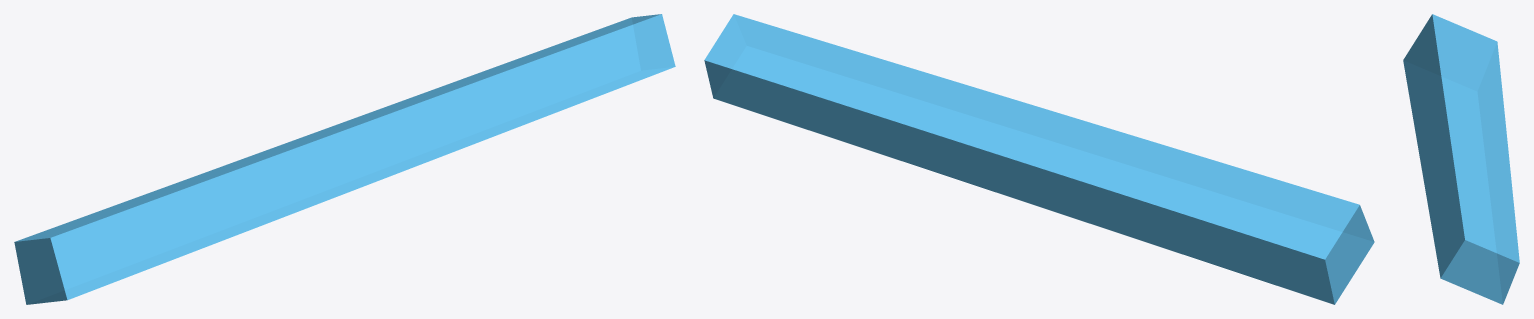
Rendered from Event_421127236_HErechit_7.fbx.
3 renders of one model, left to right at view 1: azimuth 30°, elevation 25°; view 2: azimuth 150°, elevation 25°; view 3: azimuth 270°, elevation 25°, orthographic. The views are drawn at different scales.
Visible parts, largest first — view 1: Model; view 2: Model; view 3: Model.
Part boxes in pixels (box(x1,y1,x2,y2)): Model: box(14, 14, 675, 304); Model: box(704, 14, 1374, 304); Model: box(1403, 14, 1519, 304).
Size of the model in its own units: 1.92 by 0.4158 by 0.3419.
